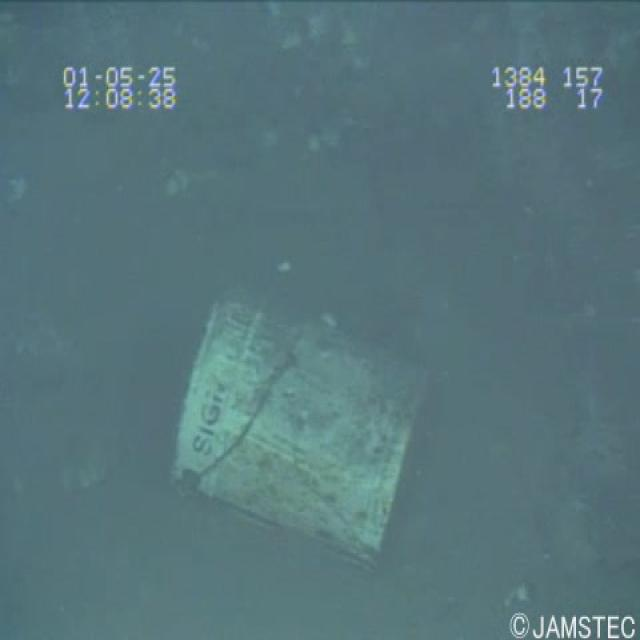plastic: (163, 272, 445, 580)
